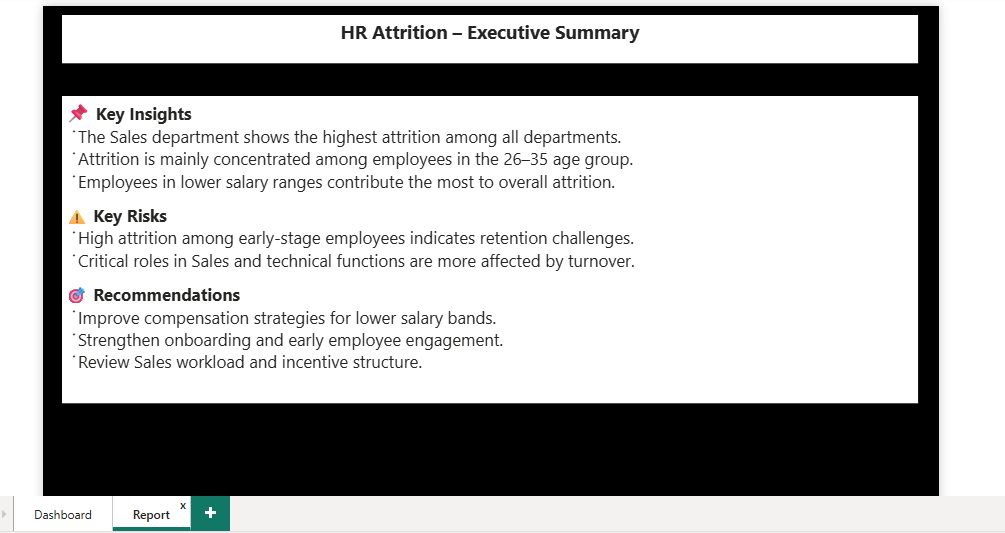

The page's visual inventory and layout, read from the dashboard file:
{"tool":"powerbi","page":{"name":"Report","canvas":[1280,720],"ordinal":1},"visuals":[{"type":"textbox","box":[27.4,13,1222.6,69.1],"z":0},{"type":"textbox","box":[27.4,128.2,1222.6,439.2],"z":2}]}

Visuals, with their boxes in screenshot pixels (x1, y1, x2, y2):
textbox: (left=41, top=10, right=935, bottom=60)
textbox: (left=41, top=94, right=935, bottom=415)
